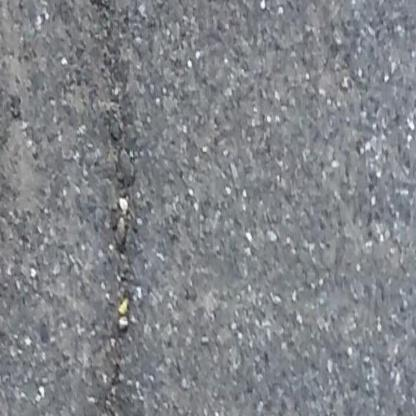Cracks: (73, 0, 161, 416)
